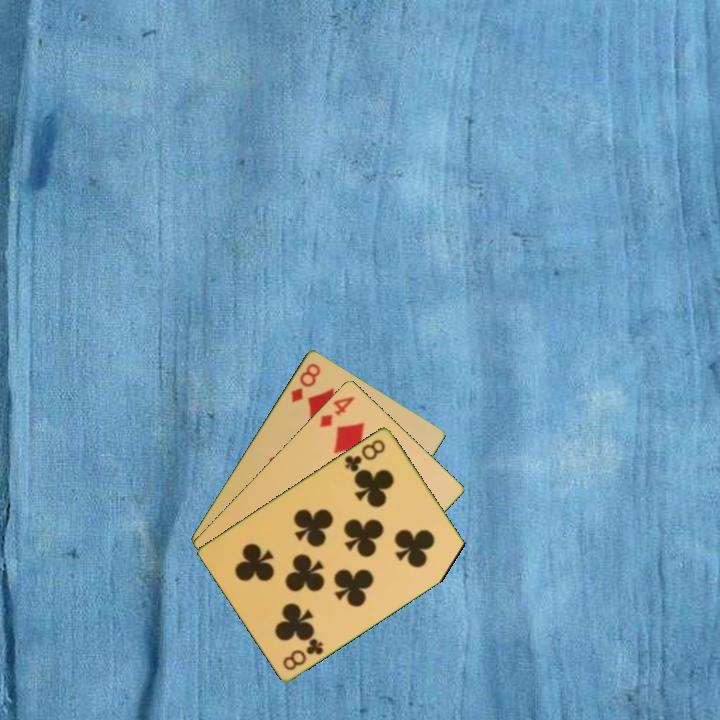4d: (316, 392, 358, 430)
8c: (341, 435, 388, 475), (279, 634, 326, 673)
8d: (287, 359, 324, 405)
